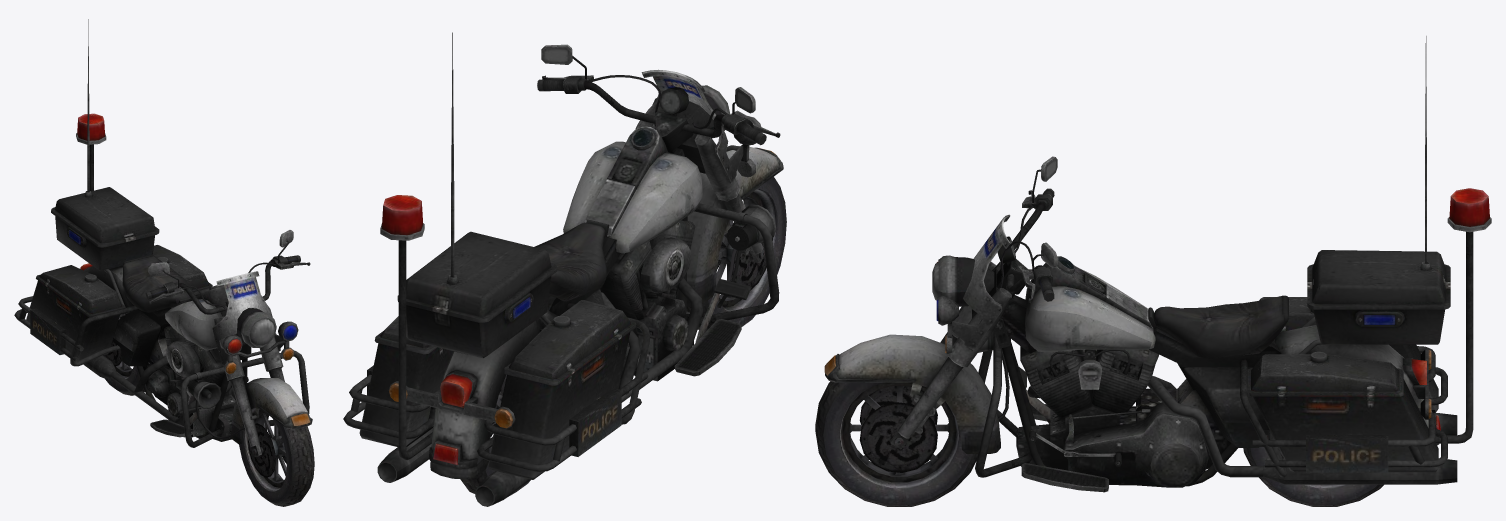
The model's file is moto.gltf.
3 renders of one model, left to right at view 1: azimuth 30°, elevation 25°; view 2: azimuth 150°, elevation 25°; view 3: azimuth 270°, elevation 25°, orthographic. The views are drawn at different scales.
Visible parts, largest first — view 1: motorbike_police; view 2: motorbike_police; view 3: motorbike_police.
Part boxes in pixels (box(x1,y1,x2,y2)): motorbike_police: box(14, 19, 314, 506); motorbike_police: box(343, 32, 786, 506); motorbike_police: box(815, 36, 1491, 506).
Size of what is drawn, in the model's own units: 1.01 by 2.1 by 2.63.
Materials: 9 (9 with a texture image).
